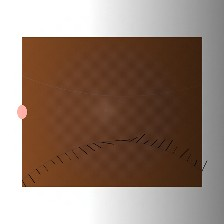pinguecula_lesion: (135, 87, 178, 121)
